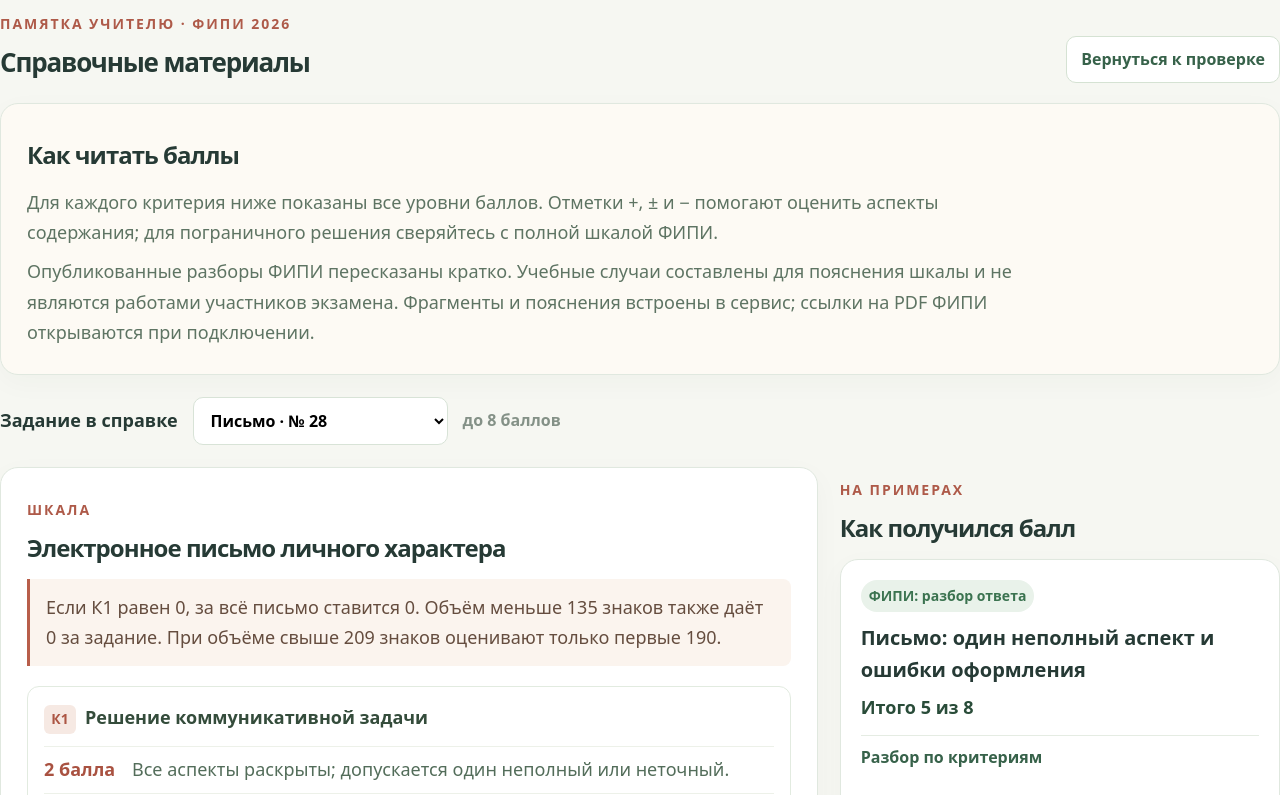
Test: worked examples › explains the published letter score by criterion and identifies its source
Expected: the text "ФИПИ: разбор ответа" is shown, [861,580,1034,612]
Expected: the text "Итого 5 из 8" is shown, [861,695,974,719]
Click the heading "Разбор по критериям" at {"x": 952, "y": 757}, box [861,746,1042,768]
(page scrolled)
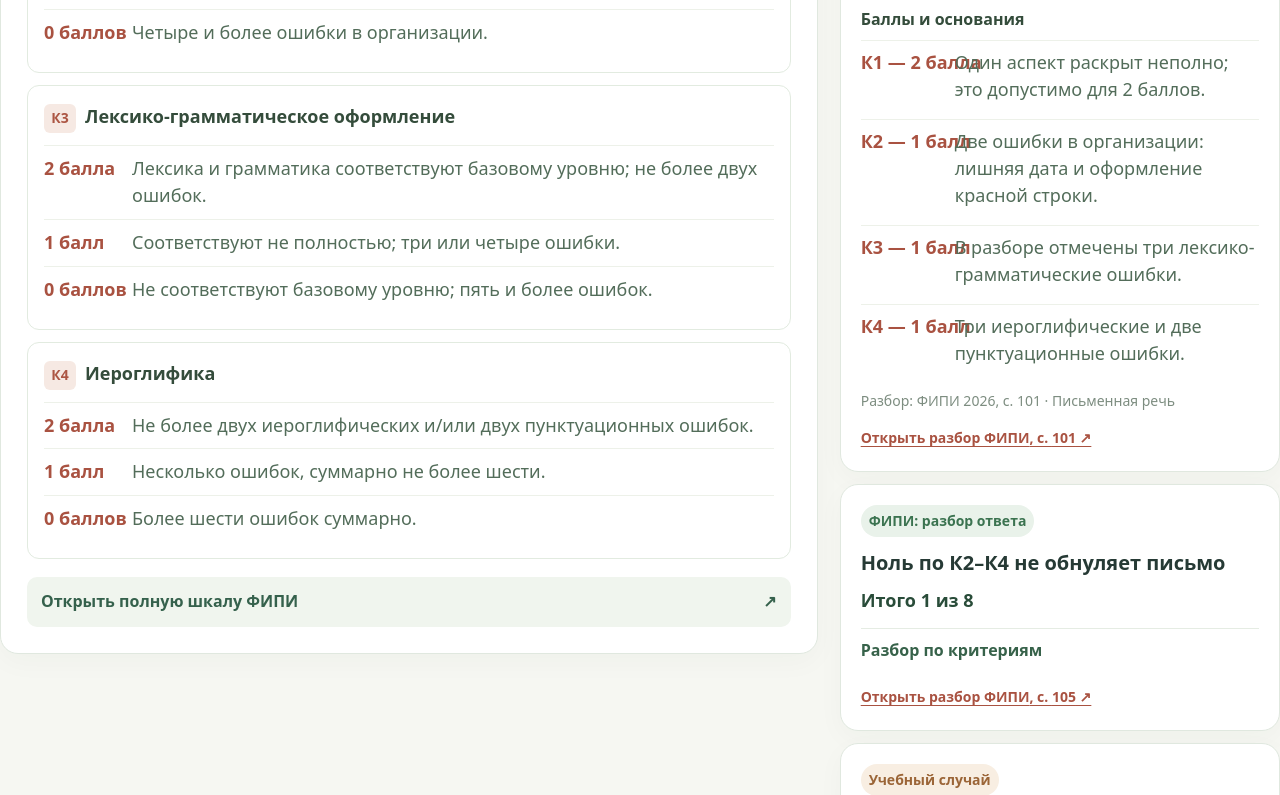
Now the text "Две ошибки в организации" is shown, box [955,129,1204,207]
Now the text "Разбор: ФИПИ 2026, с. 101 · Письменная речь" is shown, box [861,391,1175,410]
